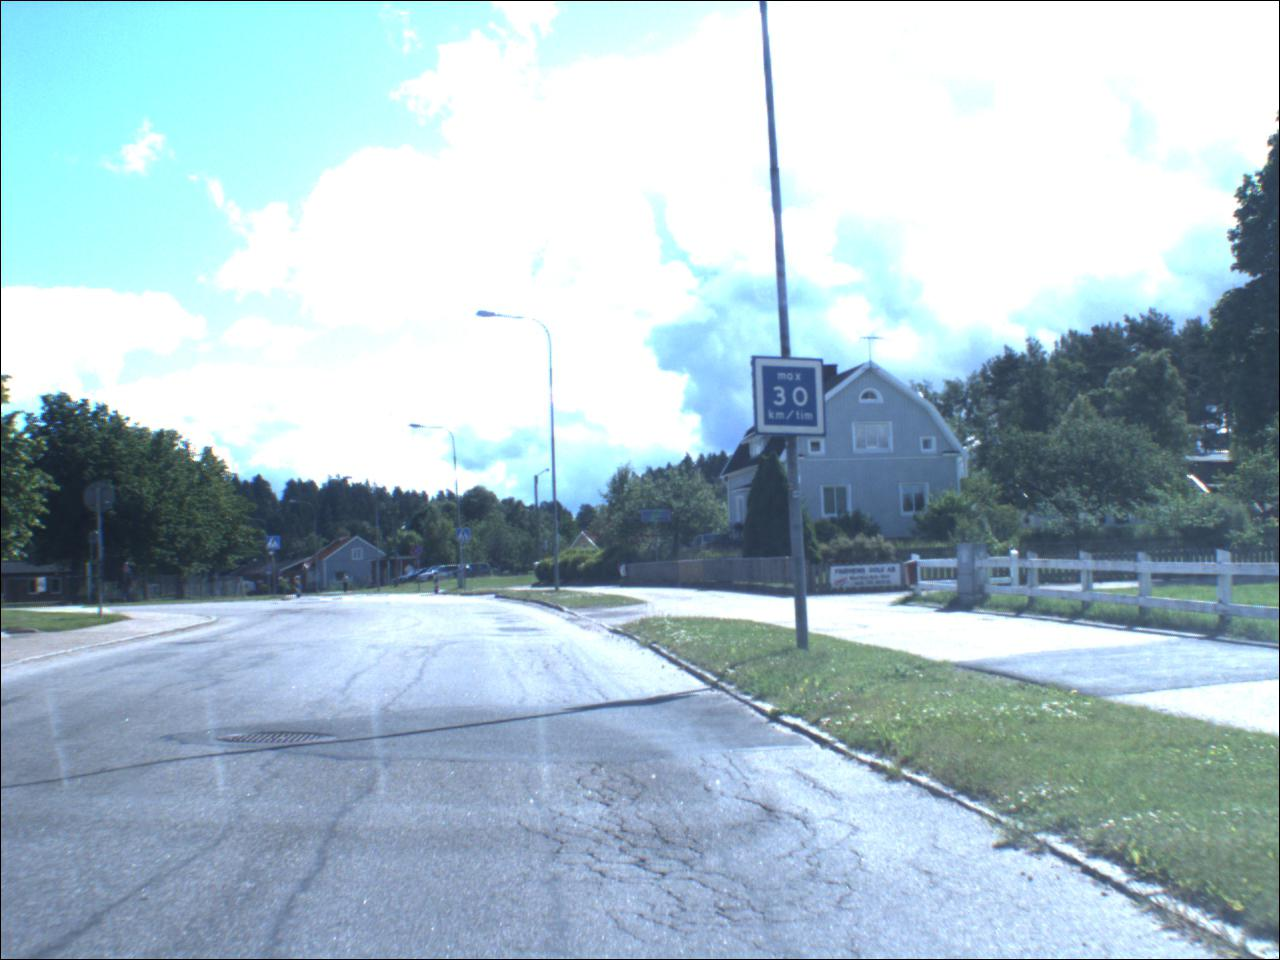NO_STOPPING_NO_STANDING: (416, 548, 426, 558)
PEDESTRIAN_CROSSING: (268, 537, 284, 554), (458, 530, 473, 545)
